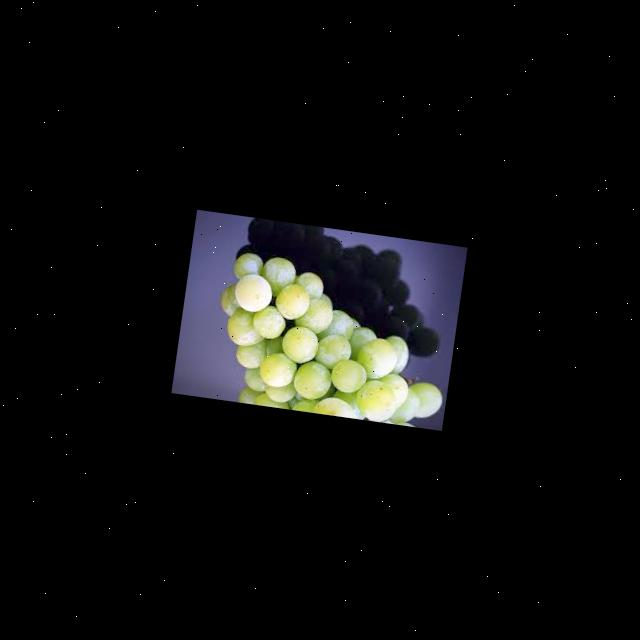grape: (206, 249, 459, 430)
